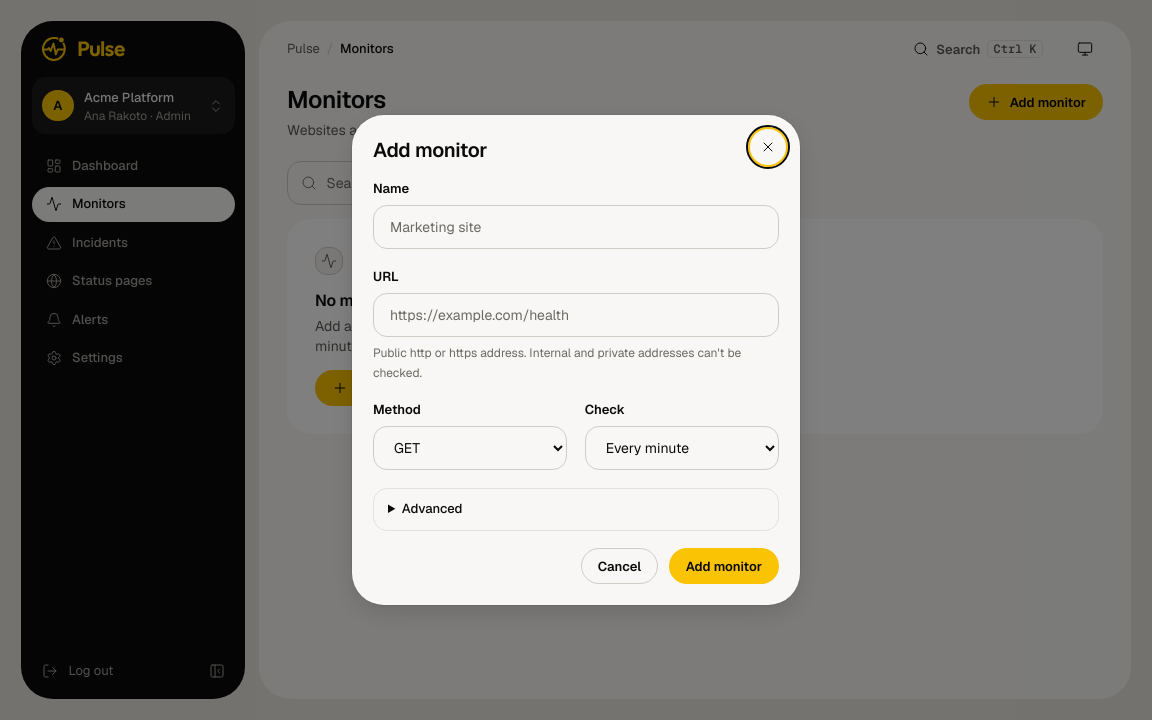
Test: Monitors list (signed in) › opens the form from the C shortcut address and shows server reasons next to the field
Type "Internal" into the field labelled "Name" at (576,227), box [373,205,779,249]
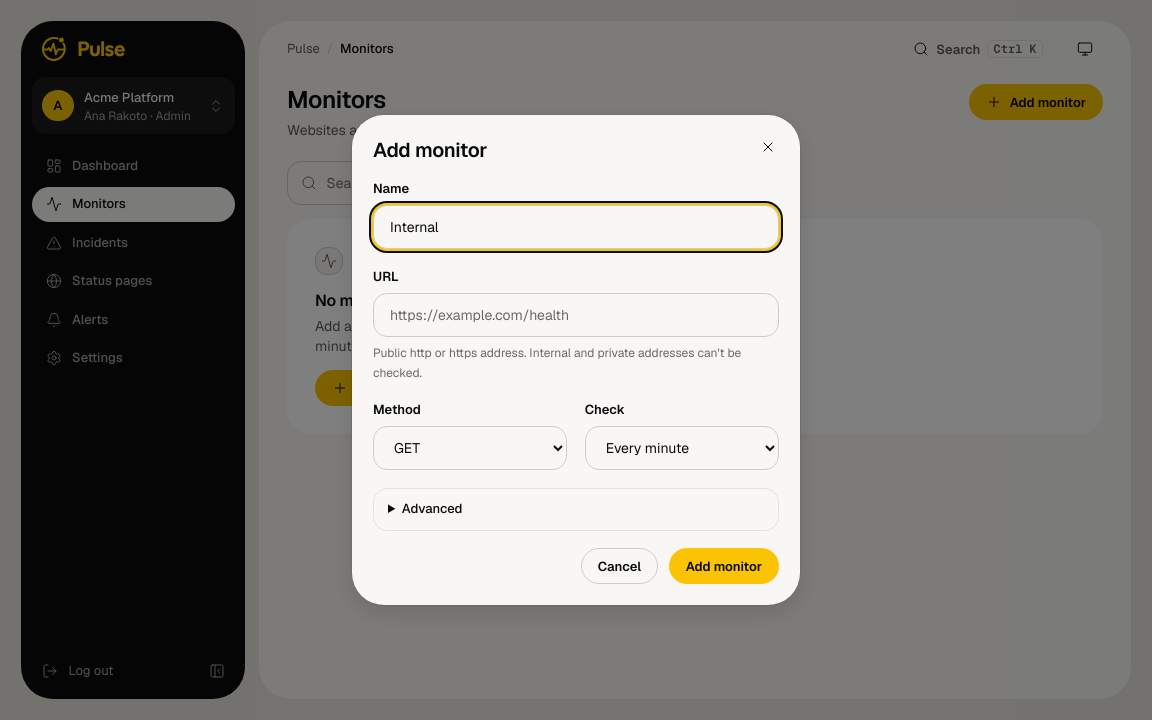
Type "https://10.0.0.5" into the field labelled "URL" at (576,314), box [373,292,779,336]
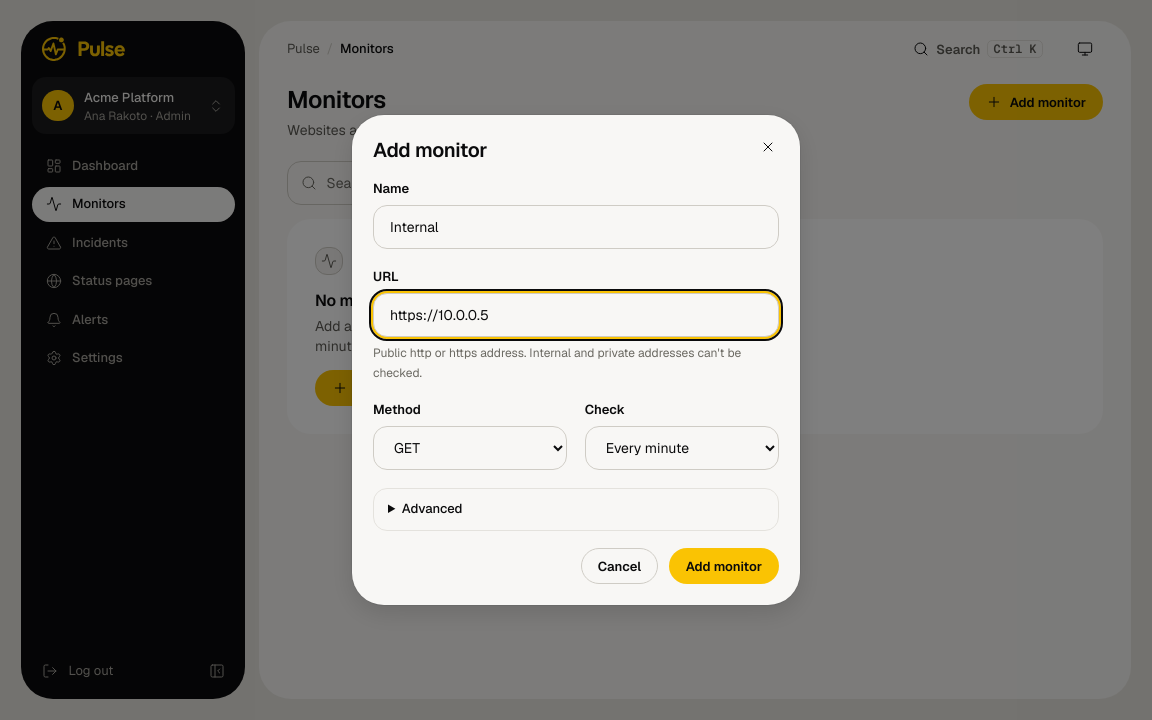
Click the button "Add monitor" at (724,566), box [669,548,779,584]
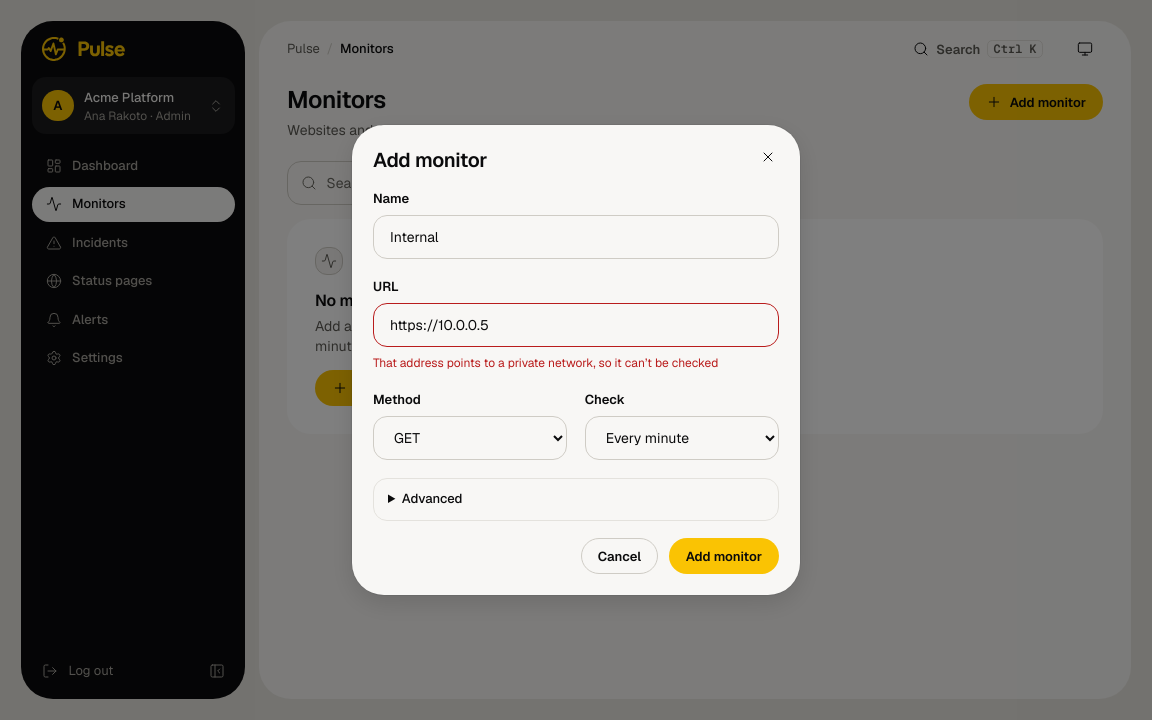
Expected: the dialog is shown, [352,125,800,595]
Expected: the text "That address points to a private network, so it can’t be checked" is shown, [373,352,779,372]
